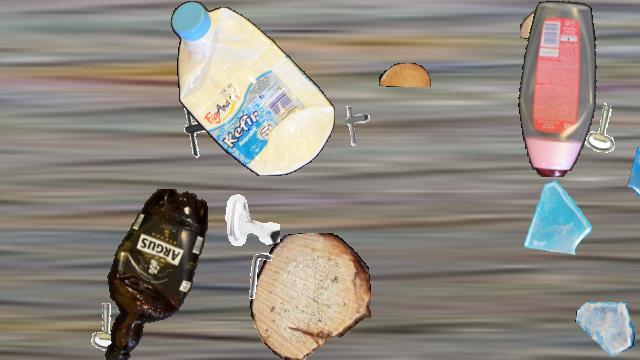glass: (513, 179, 593, 259), (575, 299, 635, 359), (625, 140, 640, 206)
metal: (173, 99, 233, 159), (222, 191, 280, 249), (81, 299, 137, 355), (577, 100, 633, 156), (235, 249, 289, 303), (333, 103, 377, 147)
plastic: (171, 1, 335, 175), (95, 189, 215, 359), (517, 1, 601, 177)
wood: (250, 233, 370, 359), (520, 9, 594, 41), (379, 63, 431, 87)
